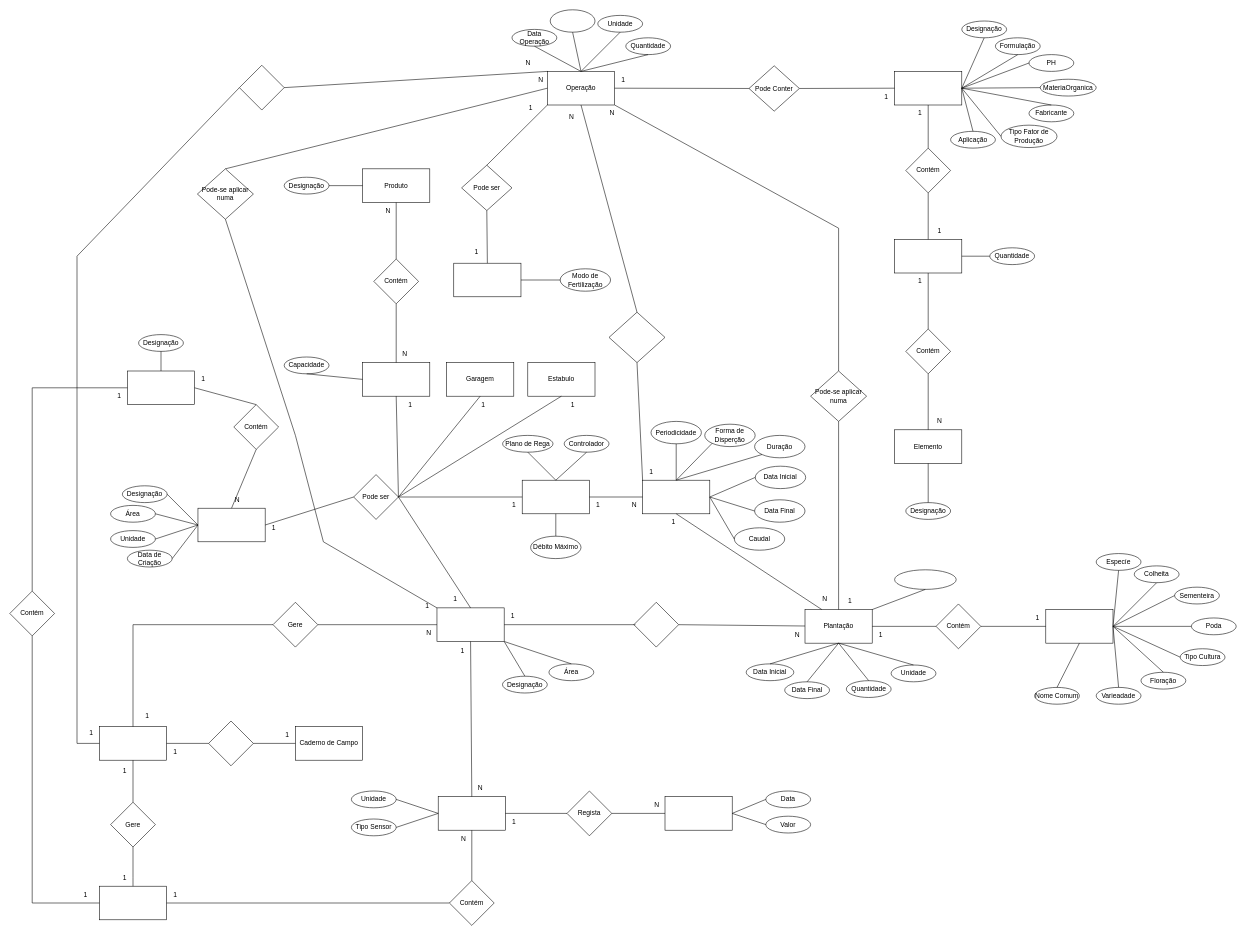
Image size: 1246x935. Some labels were removed from this diagram. The centre of each missing label's shape, as x and y in pixels:
Armazem: point 396,379
Cultiva-se: point 656,624
Cultura: point 1079,626
Espaço: point 231,525
Estado Fenológico: point 925,579
Estação Meteorológica: point 133,903
Executa: point 261,87
Fator de Produção: point 928,88
Fertlização: point 487,280
Ficha Técnica: point 928,256
Gestor Agrícola: point 133,743
Parcela: point 470,624
Pode-se aplicar num: point 636,337
Quinta: point 161,387
Regista no: point 230,743
Registo do Sensor: point 698,813
Sensor: point 471,813
Setor de Rega: point 676,497
Sistema de Rega: point 555,497
Tipo de Operação: point 572,20
